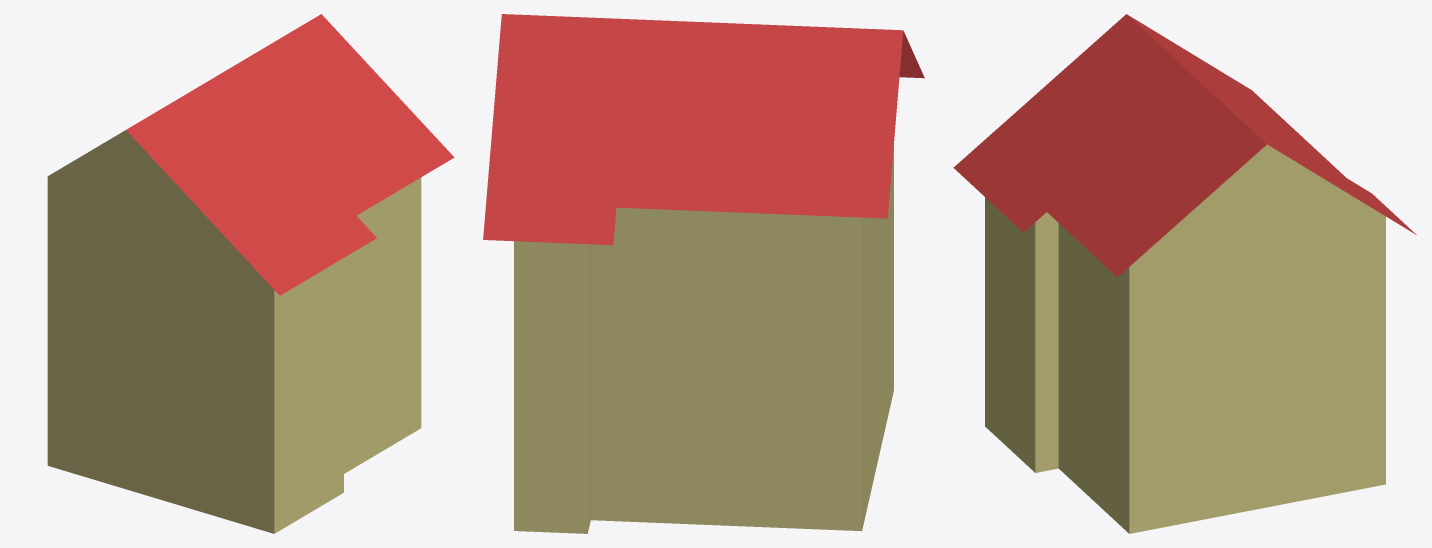
3 renders of one model, left to right at view 1: azimuth 30°, elevation 25°; view 2: azimuth 150°, elevation 25°; view 3: azimuth 270°, elevation 25°, orthographic. The views are drawn at different scales.
Visible parts, largest first — view 1: group_5, group_3, group_4; view 2: group_5, group_3, group_4; view 3: group_5, group_3, group_4.
Boxes of the visible parts, left/top/right/bottom form: group_5: left=47, top=130, right=421, bottom=533; group_3: left=140, top=14, right=420, bottom=295; group_4: left=126, top=15, right=454, bottom=295; group_5: left=514, top=145, right=893, bottom=533; group_3: left=483, top=15, right=924, bottom=245; group_4: left=483, top=14, right=903, bottom=244; group_5: left=985, top=144, right=1385, bottom=533; group_3: left=958, top=14, right=1384, bottom=275; group_4: left=953, top=14, right=1416, bottom=276.
Bounding box in the file's own units: 13.6 × 14.55 × 12.94.
